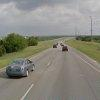Car: (5, 51, 36, 83)
